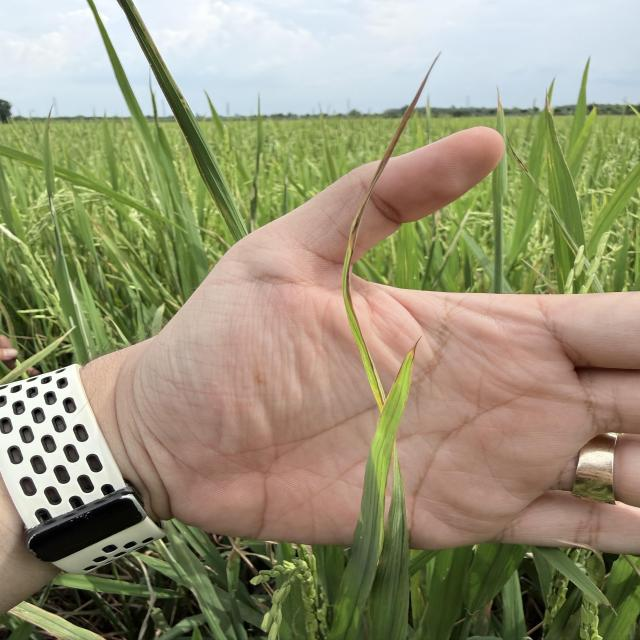Chay bia la: (345, 51, 441, 257)
